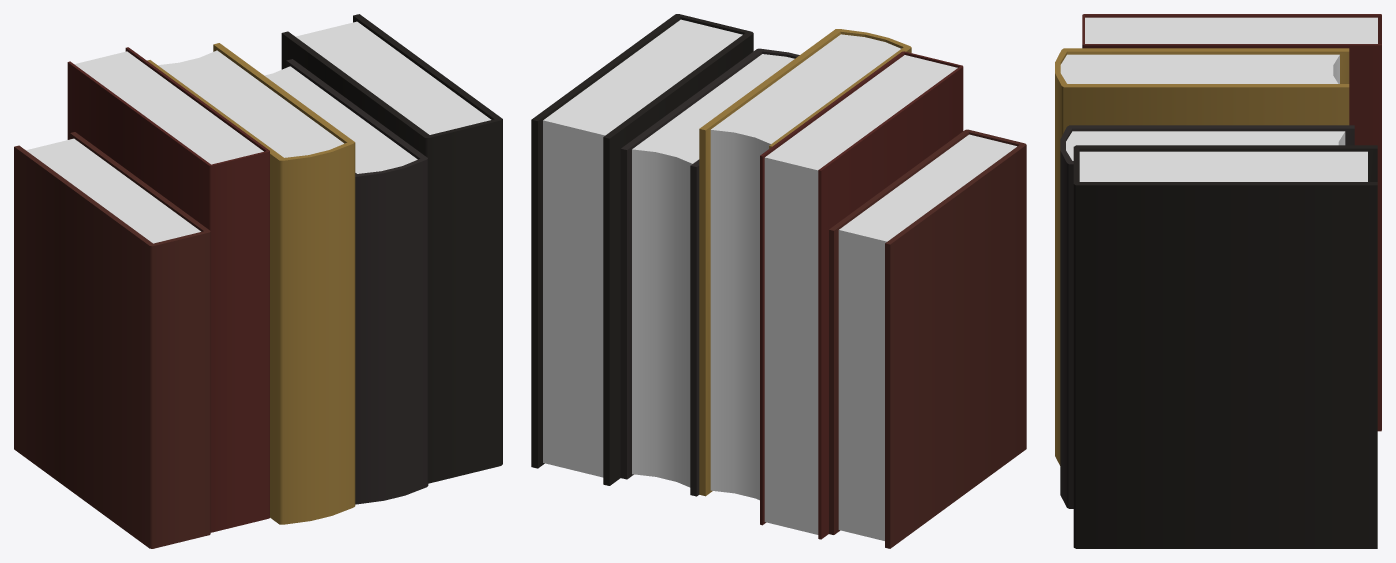
File: 065_books.glb
3 views of the same model, side by side, from view 1: azimuth 30°, elevation 25°; view 2: azimuth 150°, elevation 25°; view 3: azimuth 270°, elevation 25° (orthographic). The views are drawn at different scales.
Visible parts, largest first — view 1: Plane, Plane.002, Plane.001, Plane.004, Plane.003; view 2: Plane, Plane.004, Plane.001, Plane.002, Plane.003; view 3: Plane.004, Plane.002, Plane.001, Plane.003.
Part boxes in pixels (left/top/right/bottom): Plane: left=14, top=132, right=210, bottom=548; Plane.002: left=147, top=43, right=355, bottom=524; Plane.001: left=67, top=47, right=269, bottom=532; Plane.004: left=281, top=14, right=502, bottom=483; Plane.003: left=264, top=59, right=428, bottom=504; Plane: left=829, top=129, right=1026, bottom=548; Plane.004: left=531, top=14, right=753, bottom=485; Plane.001: left=760, top=51, right=963, bottom=539; Plane.002: left=699, top=29, right=911, bottom=500; Plane.003: left=620, top=48, right=799, bottom=496; Plane.004: left=1073, top=145, right=1377, bottom=548; Plane.002: left=1055, top=48, right=1349, bottom=465; Plane.001: left=1082, top=14, right=1381, bottom=431; Plane.003: left=1060, top=125, right=1354, bottom=508.
Size of the model in its own units: 0.7499 by 0.7488 by 0.5747.
